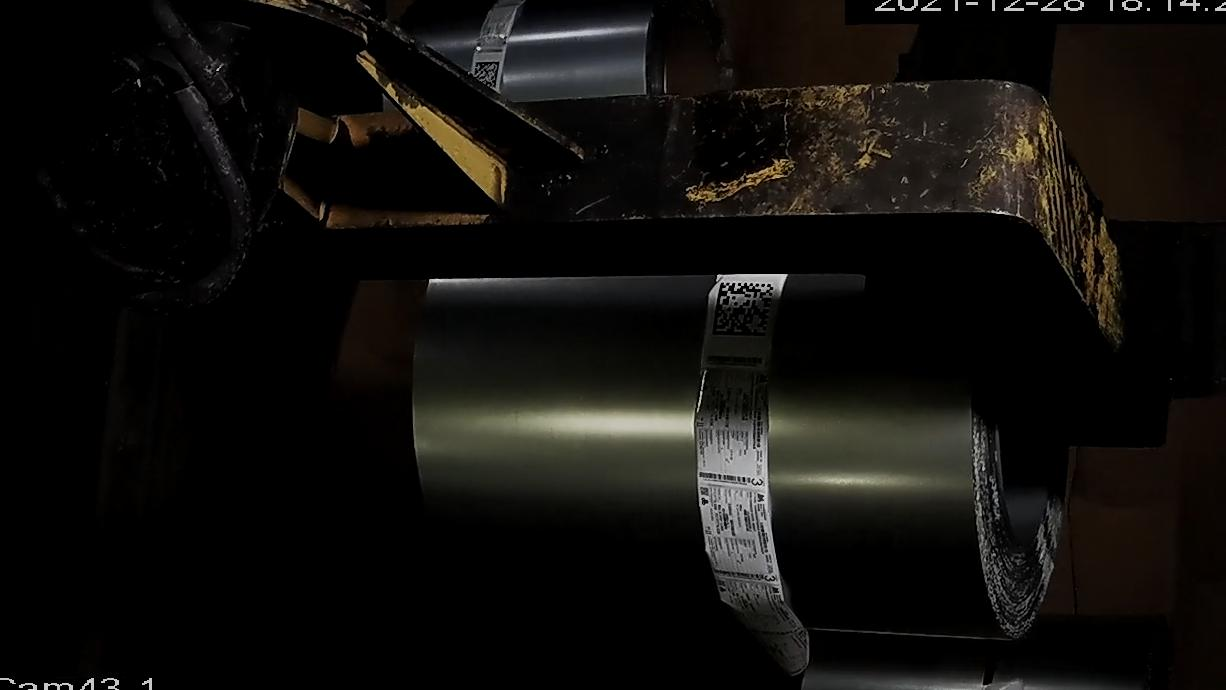data matrix: (710, 278, 776, 341)
